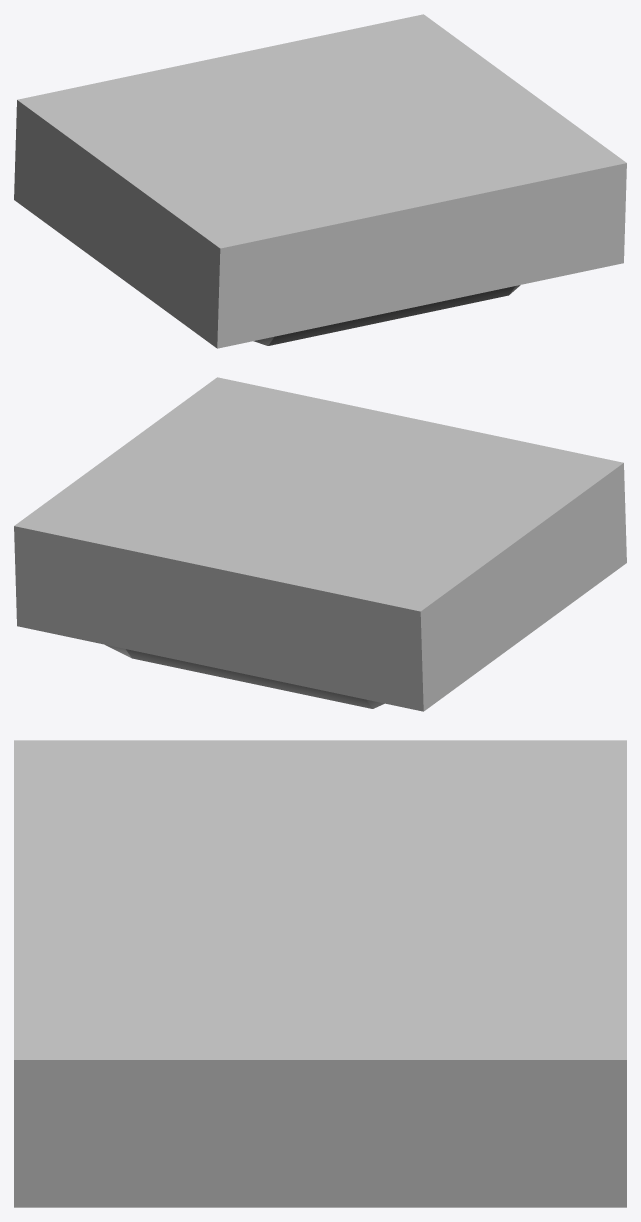
The model's file is SM_CeilingLamp00.fbx.
3 views of the same model, one above another, from view 1: azimuth 30°, elevation 25°; view 2: azimuth 150°, elevation 25°; view 3: azimuth 270°, elevation 25° (orthographic). The views are drawn at different scales.
Parts seen in each view (by area): view 1: SM_CeilingLamp00; view 2: SM_CeilingLamp00; view 3: SM_CeilingLamp00.
Boxes of the visible parts, x1,y1,x2,y2 form: SM_CeilingLamp00: (14,14,626,348); SM_CeilingLamp00: (14,377,626,711); SM_CeilingLamp00: (14,740,626,1207).
Size of the model in its own units: 206 by 71.56 by 177.
